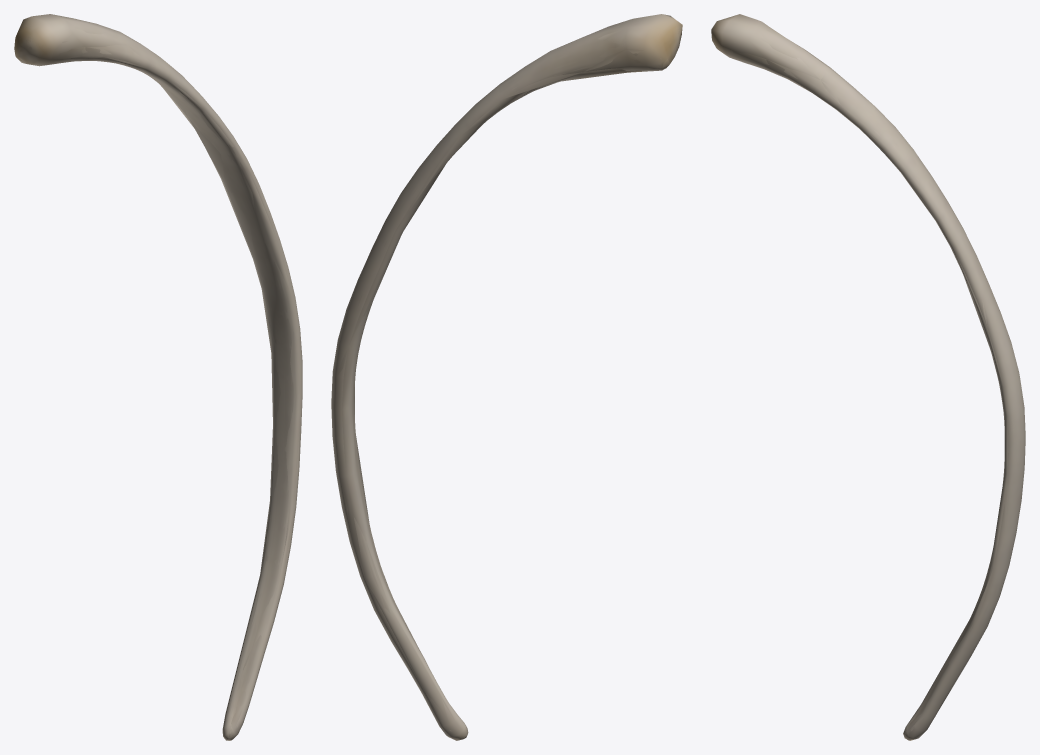
The model's file is Rib L12.fbx.
3 views of the same model, side by side, from view 1: azimuth 30°, elevation 25°; view 2: azimuth 150°, elevation 25°; view 3: azimuth 330°, elevation 25° (orthographic). The views are drawn at different scales.
Parts seen in each view (by area): view 1: Rib L12, Rib L12 low, Rib L12 high; view 2: Rib L12, Rib L12 low, Rib L12 high; view 3: Rib L12, Rib L12 low, Rib L12 high.
Part boxes in pixels (x1=…): Rib L12: x1=14, y1=14, x2=302, y2=740; Rib L12 low: x1=15, y1=16, x2=301, y2=736; Rib L12 high: x1=19, y1=18, x2=300, y2=739; Rib L12: x1=331, y1=14, x2=682, y2=740; Rib L12 low: x1=331, y1=15, x2=680, y2=732; Rib L12 high: x1=336, y1=25, x2=680, y2=731; Rib L12: x1=711, y1=14, x2=1025, y2=740; Rib L12 low: x1=712, y1=20, x2=1019, y2=740; Rib L12 high: x1=716, y1=29, x2=1024, y2=733.
Bounding box in the file's own units: 7.64 × 18.12 × 2.46.
1 material, 1 textured.
